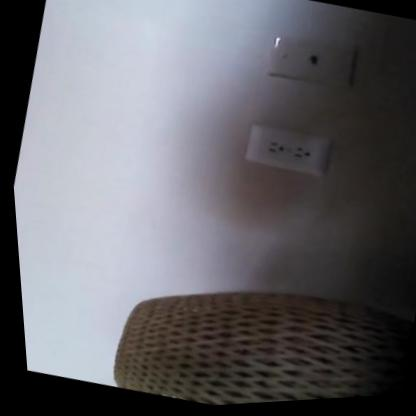OUTLET: (241, 118, 332, 182)
